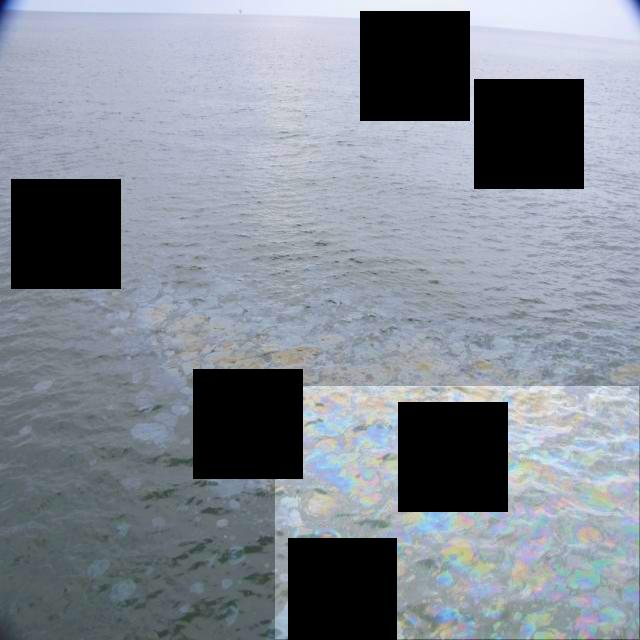oil spill: (275, 387, 640, 639)
